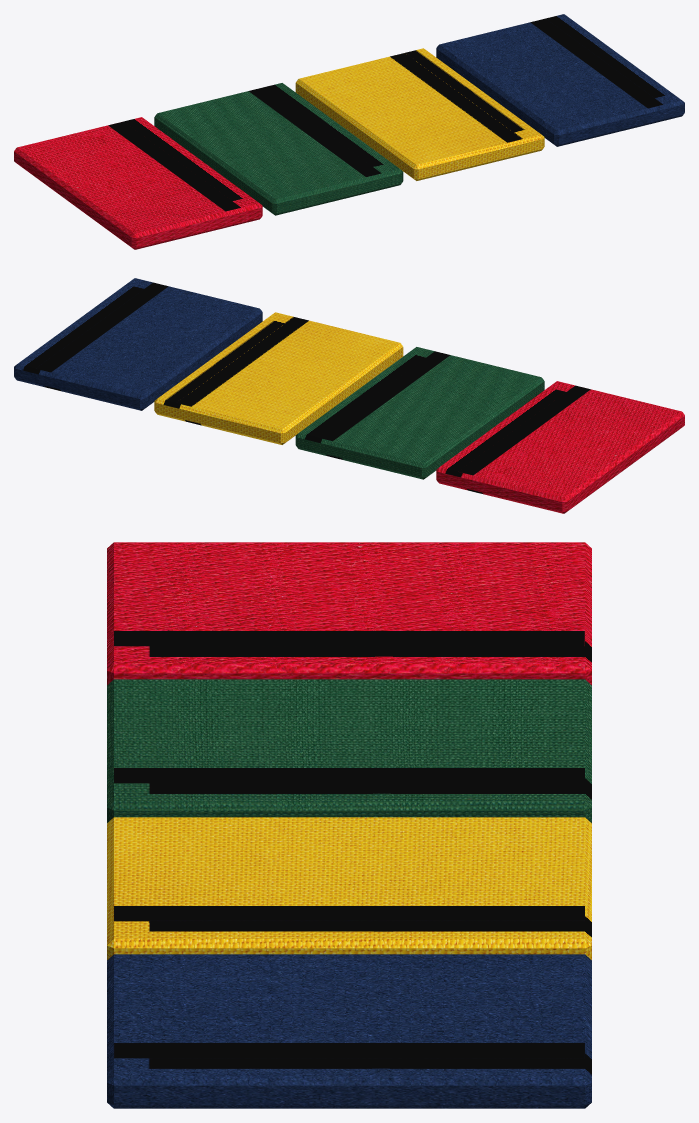
The model's file is security cards.glb.
3 views of the same model, one above another, from view 1: azimuth 30°, elevation 25°; view 2: azimuth 150°, elevation 25°; view 3: azimuth 270°, elevation 25° (orthographic). The views are drawn at different scales.
Parts seen in each view (by area): view 1: Cube.001, Cube.002, Cube, Cube.003; view 2: Cube.001, Cube.002, Cube, Cube.003; view 3: Cube.003, Cube, Cube.001, Cube.002.
Part boxes in pixels (box(x1,y1,x2,y2)): Cube.001: box(14, 117, 262, 249); Cube.002: box(295, 48, 544, 180); Cube: box(154, 83, 403, 215); Cube.003: box(436, 14, 684, 146); Cube.001: box(436, 381, 684, 513); Cube.002: box(154, 312, 403, 444); Cube: box(295, 347, 544, 479); Cube.003: box(14, 278, 262, 410); Cube.003: box(107, 954, 591, 1108); Cube: box(107, 679, 591, 822); Cube.001: box(107, 542, 591, 684); Cube.002: box(107, 817, 591, 959).
Bounding box in the file's own units: 5.27 × 0.1477 × 2.
Materials: 4 (4 with a texture image).
